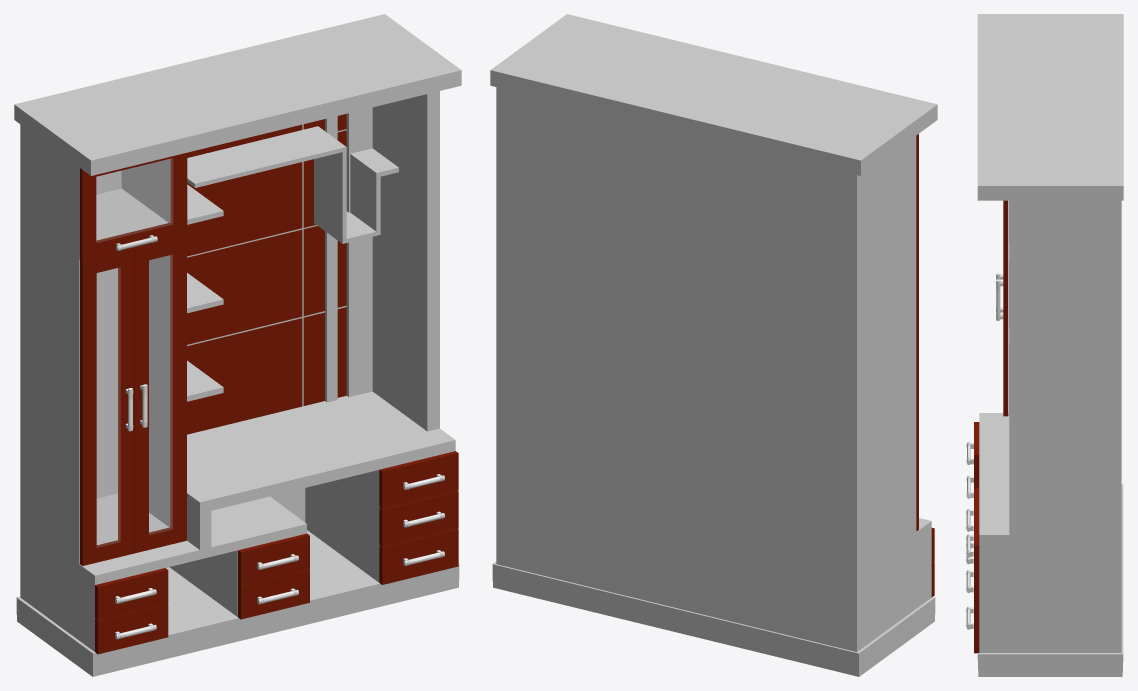
File: Lemari_Merah.glb
3 views of the same model, side by side, from view 1: azimuth 30°, elevation 25°; view 2: azimuth 150°, elevation 25°; view 3: azimuth 270°, elevation 25° (orthographic). The views are drawn at different scales.
Parts seen in each view (by area): view 1: Cube, Handle; view 2: Cube; view 3: Cube, Handle.
Boxes of the visible parts, left/top/right/bottom form: Cube: left=14, top=14, right=461, bottom=676; Handle: left=115, top=235, right=444, bottom=639; Cube: left=490, top=14, right=937, bottom=676; Cube: left=974, top=14, right=1123, bottom=676; Handle: left=966, top=272, right=1003, bottom=629.
Bounding box in the file's own units: 2.99 × 3.99 × 1.16.
